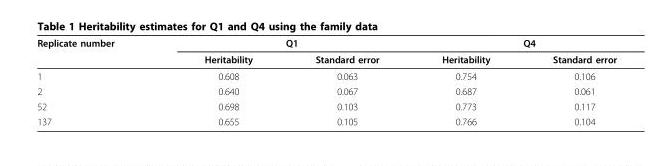table: (36, 36, 616, 126)
table column: (283, 36, 409, 126), (158, 36, 283, 126), (36, 36, 158, 126), (409, 36, 520, 126), (520, 36, 616, 126)
table column header: (36, 36, 616, 67)
table row: (36, 50, 616, 67), (36, 67, 616, 83), (36, 83, 616, 98), (36, 98, 616, 113), (36, 36, 616, 50), (36, 113, 616, 126)
table spanning cell: (36, 36, 158, 67), (158, 36, 409, 50), (409, 36, 616, 50)
